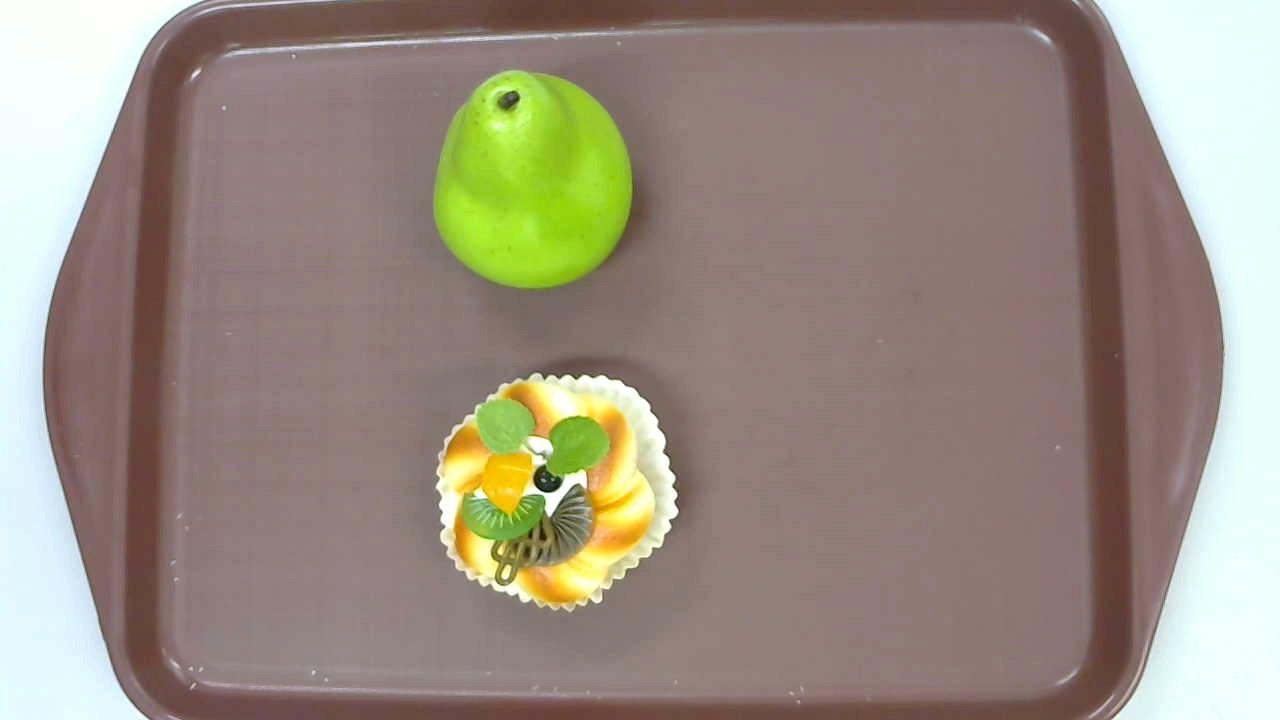fruit tart: (434, 372, 680, 612)
green pear: (432, 69, 632, 290)
